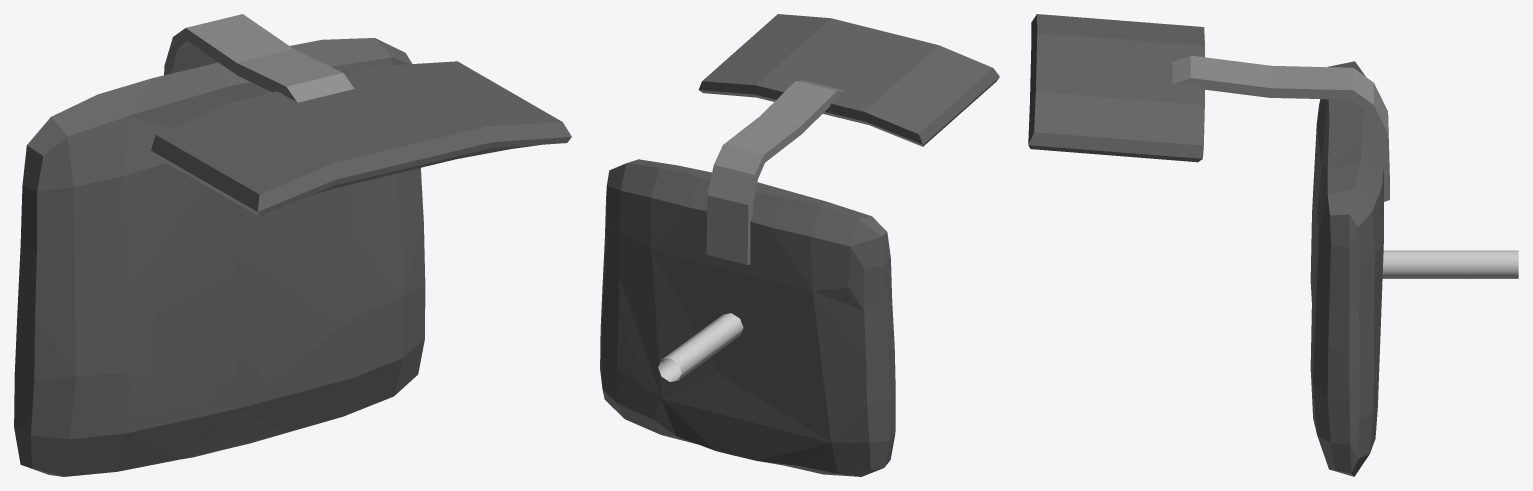
Rendered from Chair_Body.obj.
3 views of the same model, side by side, from view 1: azimuth 30°, elevation 25°; view 2: azimuth 150°, elevation 25°; view 3: azimuth 270°, elevation 25° (orthographic). The views are drawn at different scales.
Visible parts, largest first — view 1: Chair_Body; view 2: Chair_Body; view 3: Chair_Body.
Boxes of the visible parts, x1=… form: Chair_Body: x1=14, y1=14, x2=571, y2=476; Chair_Body: x1=600, y1=14, x2=999, y2=476; Chair_Body: x1=1028, y1=14, x2=1518, y2=476.
Size of the model in its own units: 0.5446 by 0.5729 by 0.7113.
